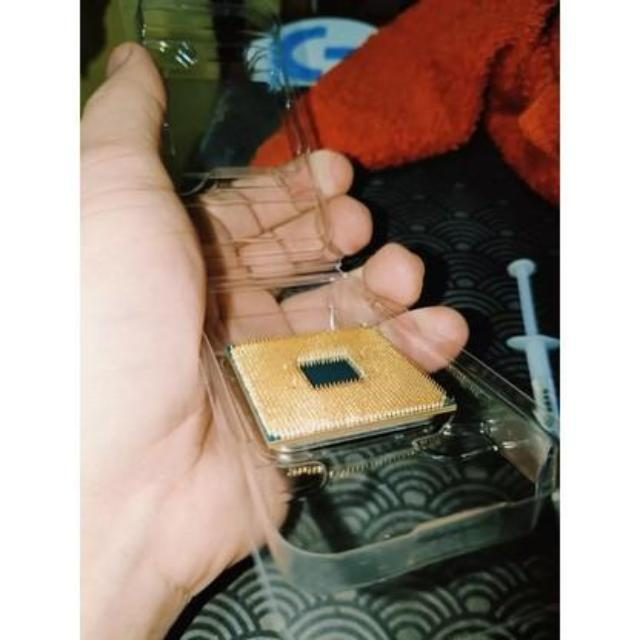CPU: (227, 322, 456, 446)
